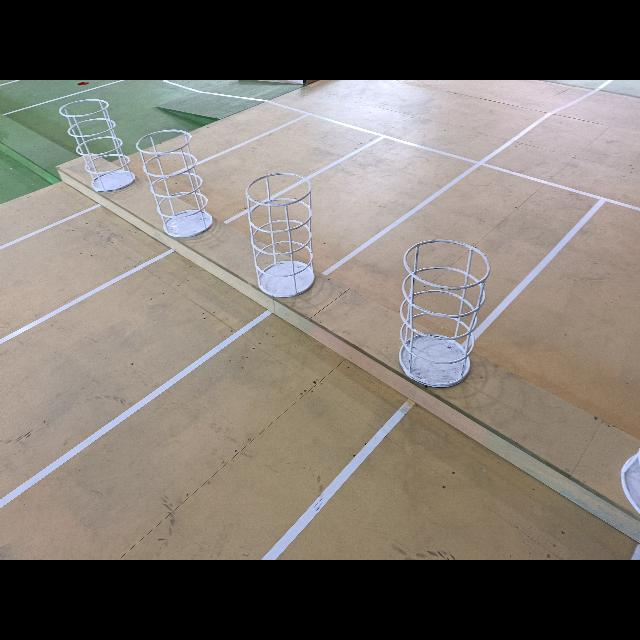S: (397, 238, 492, 390), (243, 173, 317, 300), (136, 127, 217, 239), (57, 96, 136, 195)
